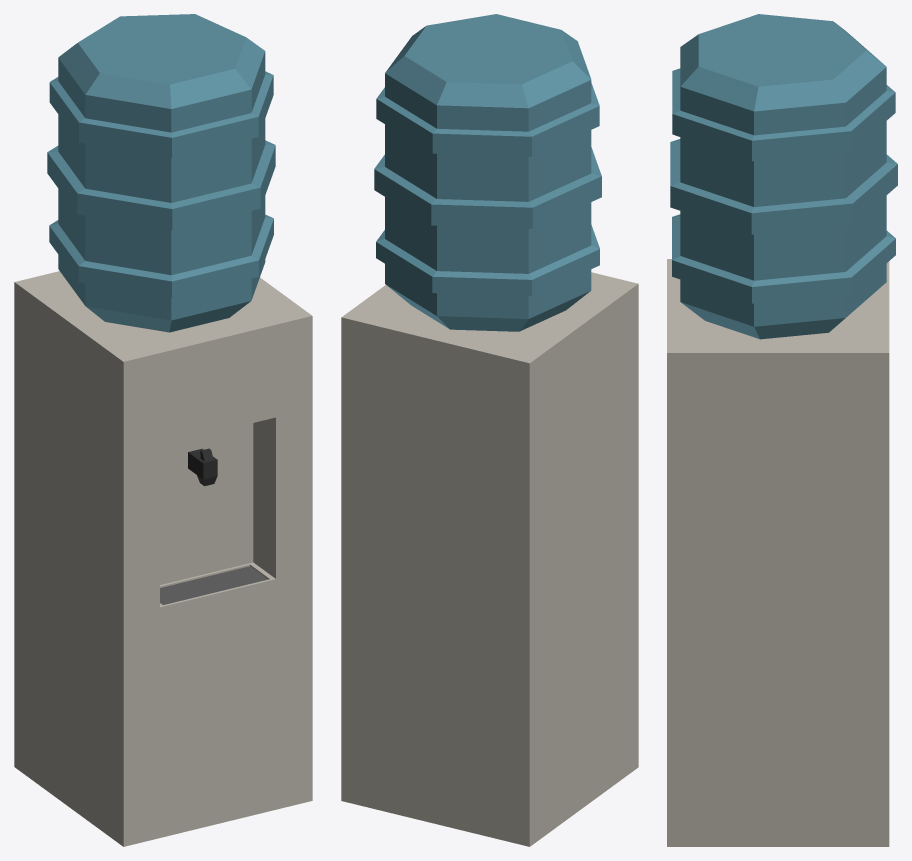
The model's file is Water_Dispenser.fbx.
The picture shows the model from 3 angles, left to right: view 1: azimuth 30°, elevation 25°; view 2: azimuth 150°, elevation 25°; view 3: azimuth 270°, elevation 25°; orthographic projection. The views are drawn at different scales.
Visible parts, largest first — view 1: Cube.146, Cylinder.027; view 2: Cube.146, Cylinder.027; view 3: Cube.146, Cylinder.027.
Boxes of the visible parts, x1=… form: Cube.146: x1=14, y1=271, x2=312, y2=846; Cylinder.027: x1=47, y1=14, x2=275, y2=332; Cube.146: x1=341, y1=272, x2=638, y2=846; Cylinder.027: x1=374, y1=14, x2=601, y2=331; Cube.146: x1=667, y1=259, x2=889, y2=846; Cylinder.027: x1=670, y1=14, x2=897, y2=339.
Bounding box in the file's own units: 133 × 470 × 131.
